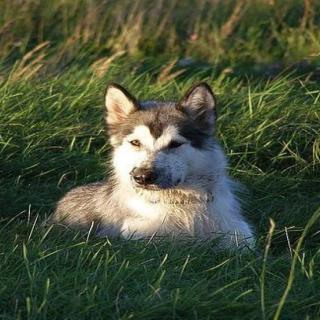dog: (91, 74, 225, 201)
nose: (130, 164, 156, 187)
